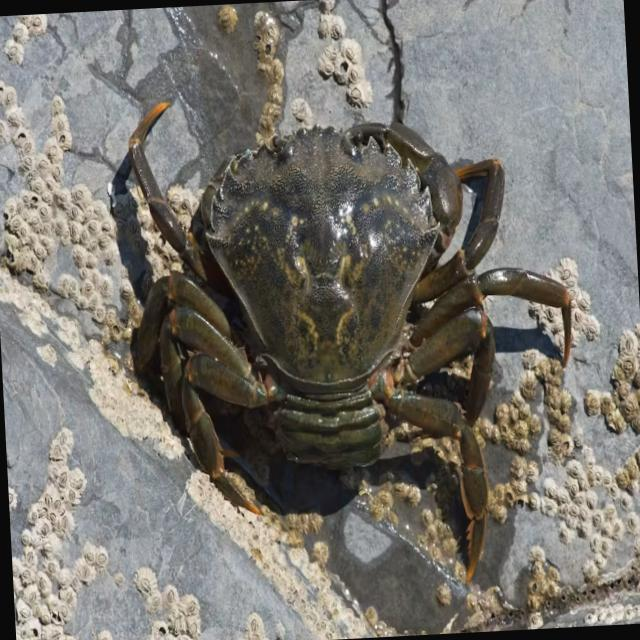green_crab: (129, 103, 570, 578)
